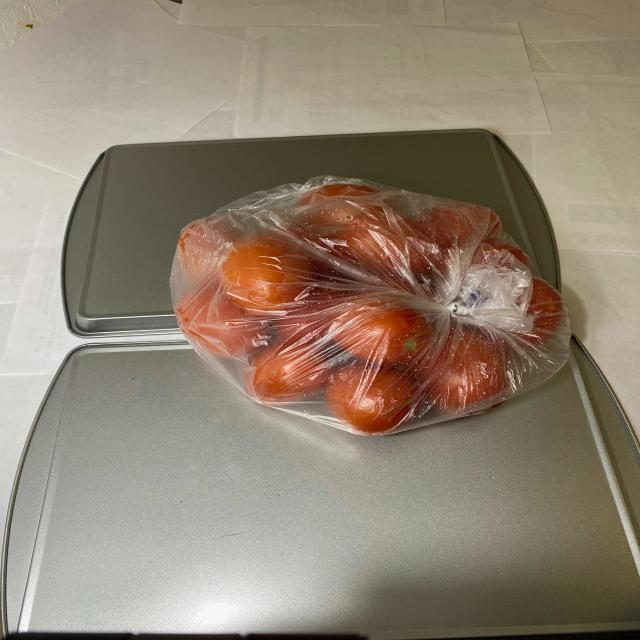tomato: (168, 193, 577, 430)
